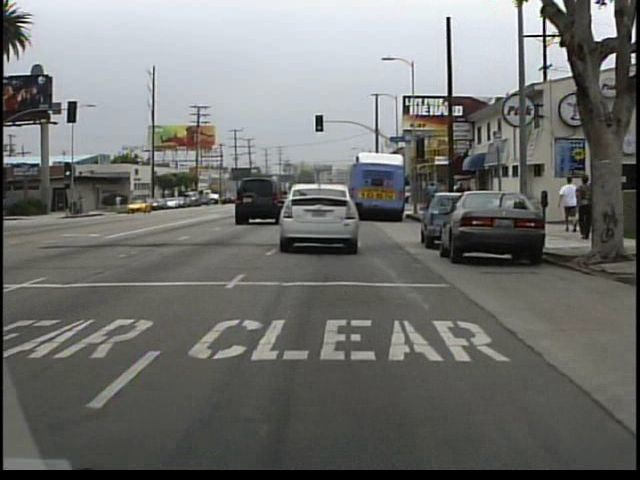person: (554, 172, 578, 235), (572, 175, 593, 240), (422, 180, 441, 220), (114, 194, 125, 213)
